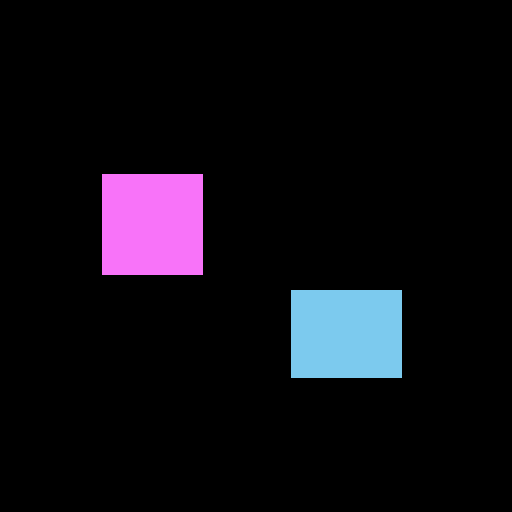rectangle: (291, 290, 401, 377)
square: (102, 174, 202, 274)
